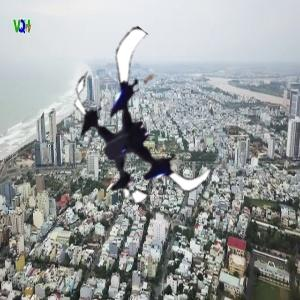drone: (57, 50, 226, 219)
